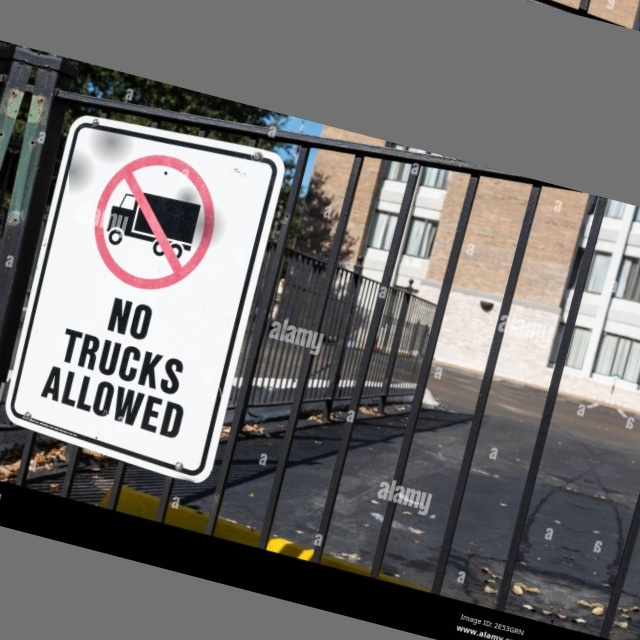Truck_Prohibited: (69, 129, 237, 315)
